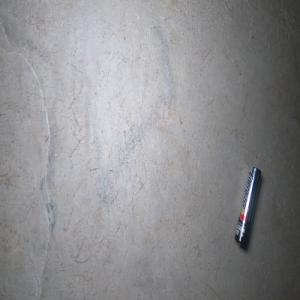Battery: (234, 165, 262, 250)
